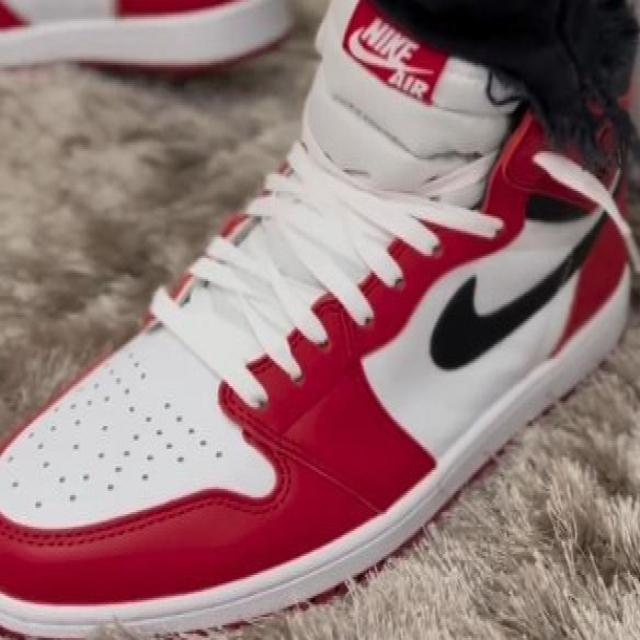J1_InsoleChar: (0, 1, 637, 638)
J1_MateComp: (0, 0, 297, 74)
J1_ShoeLogo: (341, 3, 449, 106)
J1_ShoeShape: (370, 0, 638, 174)
J1_StitchPattern: (5, 132, 502, 522), (149, 136, 500, 407), (23, 357, 227, 508), (234, 162, 414, 326), (427, 212, 608, 371), (530, 144, 638, 296), (242, 406, 385, 516), (325, 86, 486, 166), (93, 367, 211, 476), (151, 623, 245, 638)
